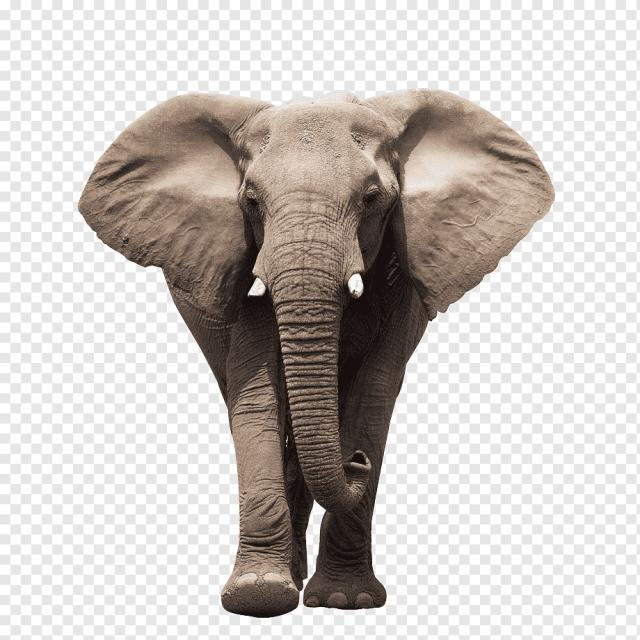Elephant: (74, 74, 558, 620)
